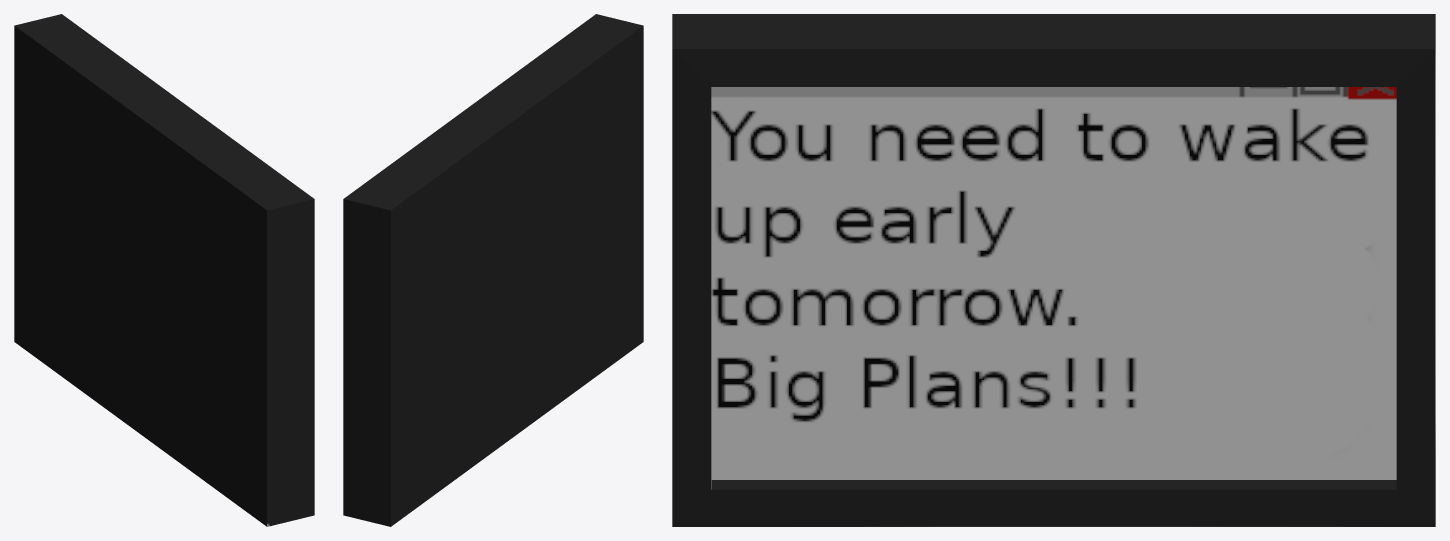
Rendered from Monitor.fbx.
3 renders of one model, left to right at view 1: azimuth 30°, elevation 25°; view 2: azimuth 150°, elevation 25°; view 3: azimuth 270°, elevation 25°, orthographic. The views are drawn at different scales.
Parts seen in each view (by area): view 1: Cube.001; view 2: Cube.001; view 3: Cube.001.
Boxes of the visible parts, left/top/right/bottom form: Cube.001: left=14, top=14, right=314, bottom=526; Cube.001: left=343, top=14, right=643, bottom=526; Cube.001: left=672, top=14, right=1435, bottom=526.
Size of the model in its own units: 51.87 by 328 by 475.
